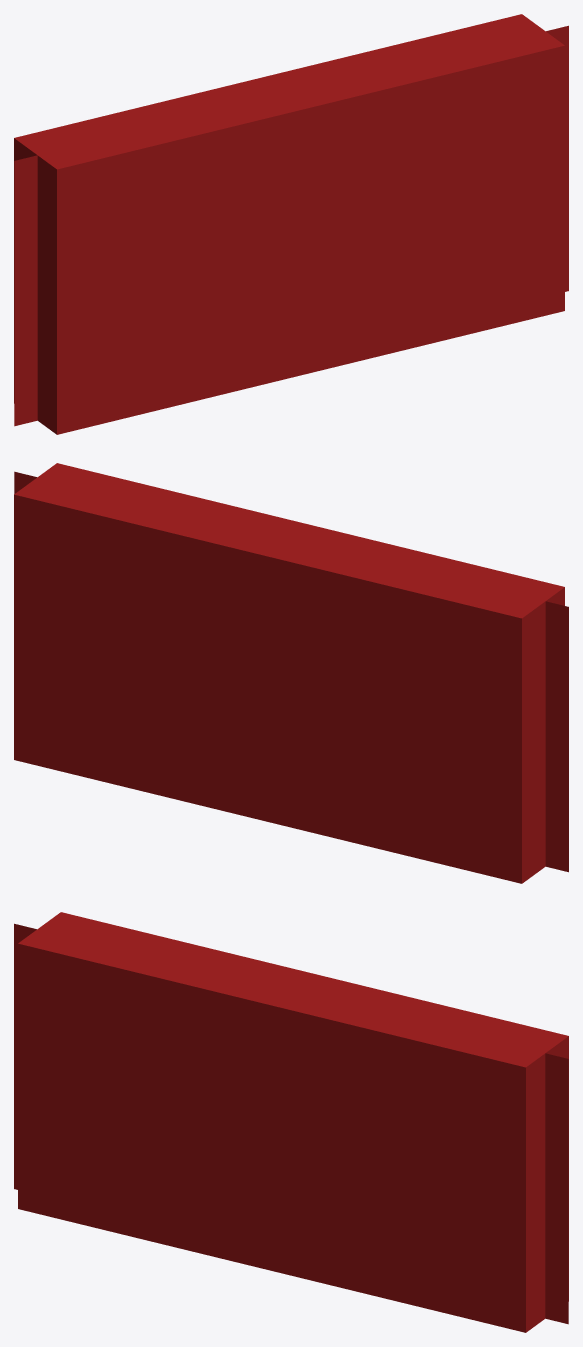
Rendered from Chocolate.fbx.
3 views of the same model, one above another, from view 1: azimuth 30°, elevation 25°; view 2: azimuth 150°, elevation 25°; view 3: azimuth 330°, elevation 25° (orthographic).
Visible parts, largest first — view 1: Chocolate; view 2: Chocolate; view 3: Chocolate.
Part boxes in pixels (x1,y1,x2,y2): Chocolate: (14, 14, 568, 434); Chocolate: (14, 463, 568, 883); Chocolate: (14, 912, 568, 1332).
Bounding box in the file's own units: 10.95 × 5 × 1.47.
